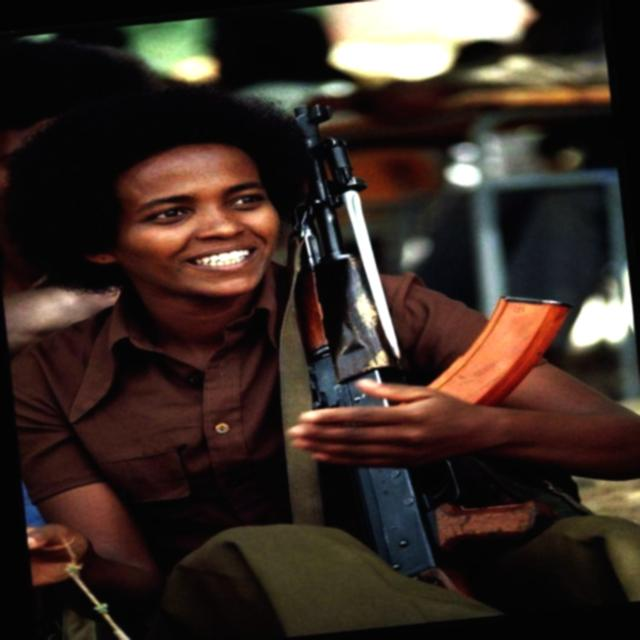ak: (206, 58, 622, 600)
